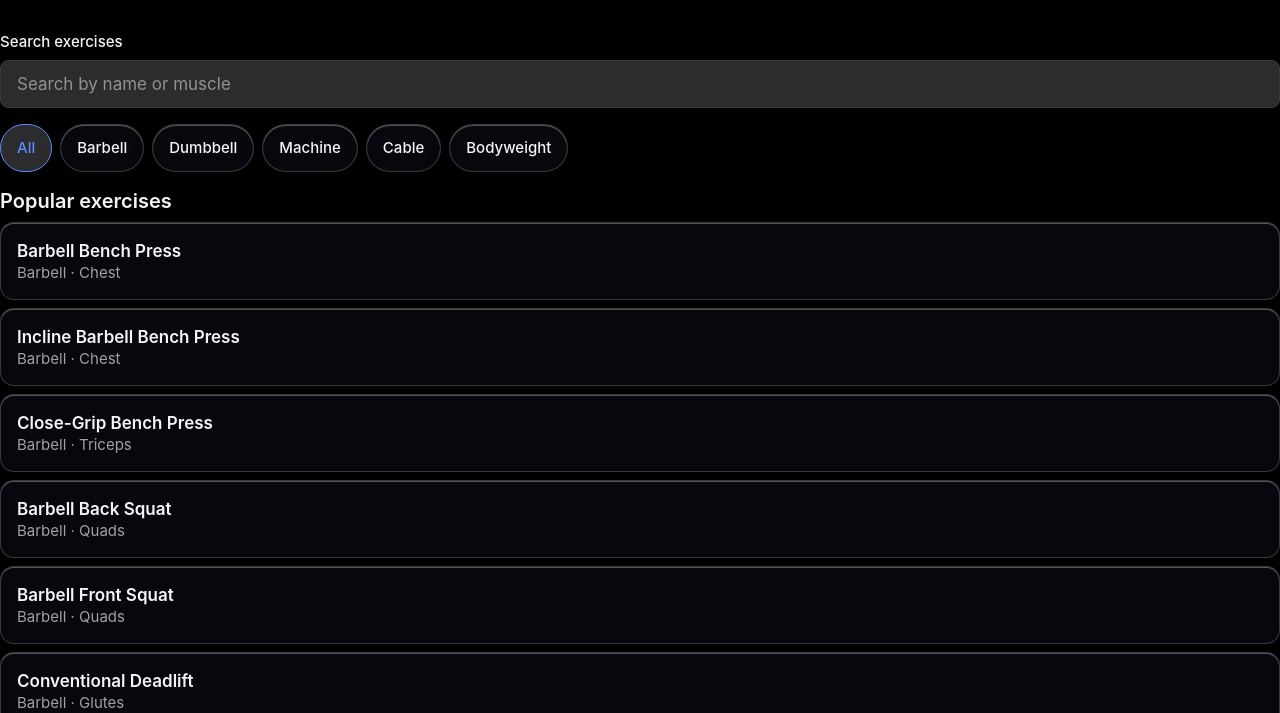
ExercisesPage: searching › filters by equipment, and the chip says it is pressed
This screenshot has width=1280, height=713.
Click the button "Cable" at (404, 148), box x1=366 y1=124 x2=441 y2=172
(page scrolled)
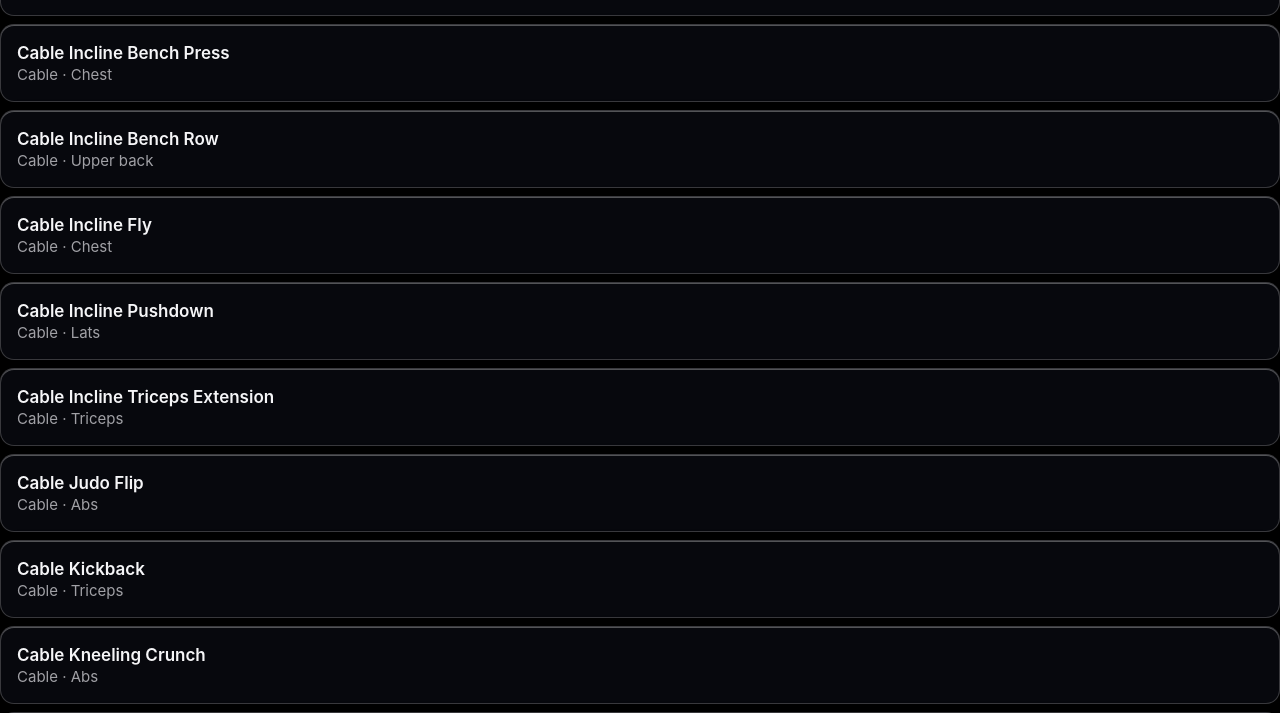
expect the list item "Cable Incline Bench Press Cable · Chest" is shown: met, box x1=0 y1=24 x2=1279 y2=102
expect the list item "Cable Incline Bench Row Cable · Upper back" is shown: met, box x1=0 y1=110 x2=1279 y2=188
expect the list item "Cable Incline Fly Cable · Chest" is shown: met, box x1=0 y1=196 x2=1279 y2=274
